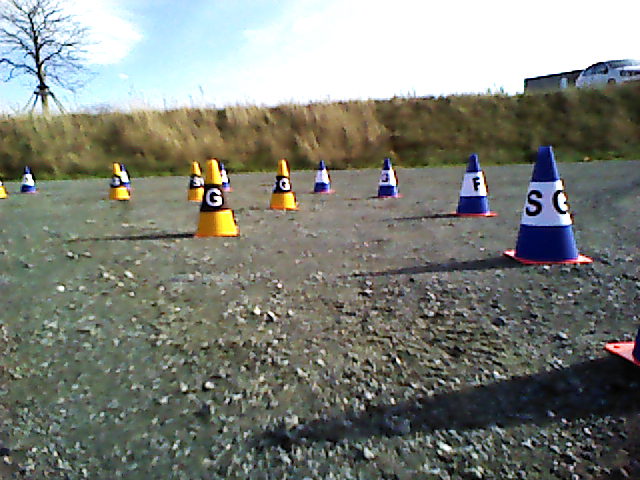bluecone: (516, 146, 579, 257), (458, 155, 489, 213), (378, 159, 398, 195), (312, 161, 333, 191), (20, 166, 37, 193)
yellowcone: (196, 158, 237, 235), (271, 160, 299, 207), (109, 163, 134, 200), (186, 162, 204, 200)
